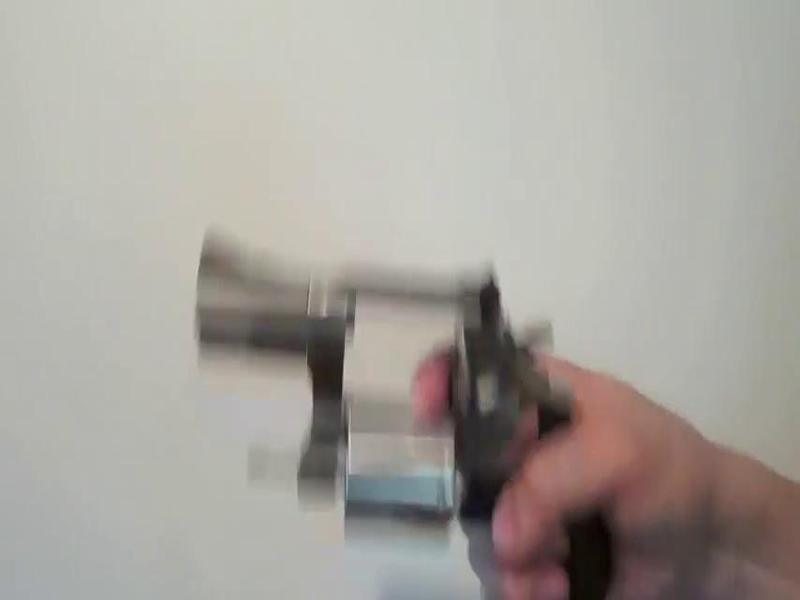Revolver: (175, 218, 649, 600)
